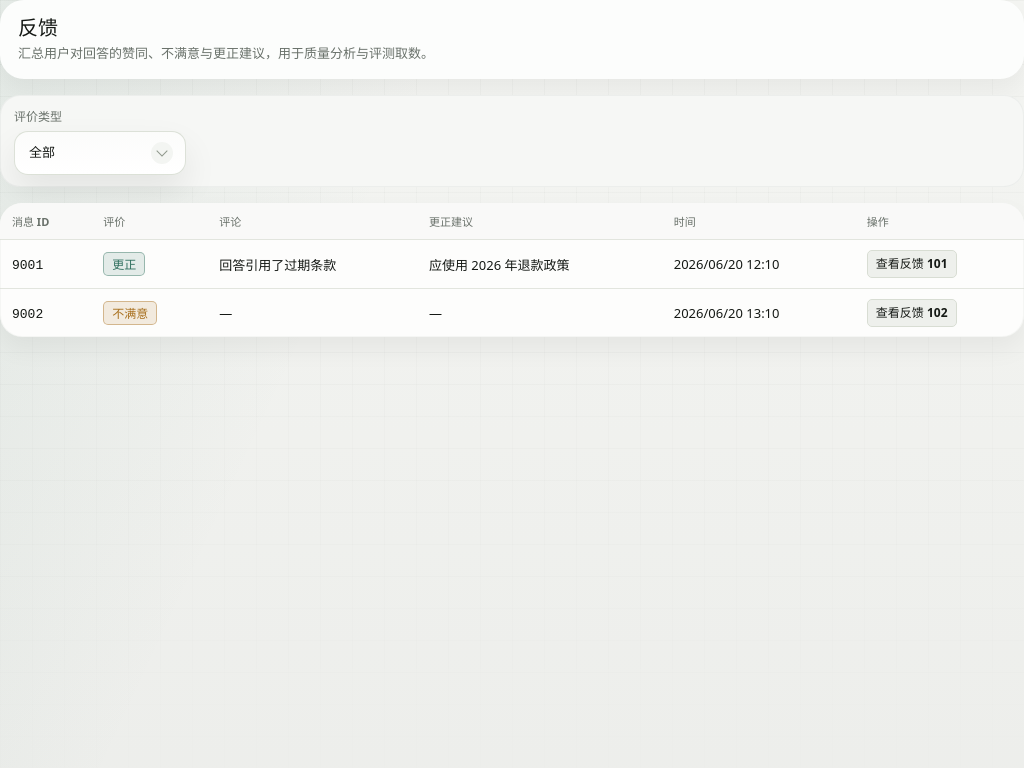
Test: FeedbackConsolePage › opens feedback details with conversation, message and trace entries
What coordinates should you click on to do the following:
click the button "查看反馈 101"
I would click on:
 (912, 264)
Its box is [867,250,956,278].
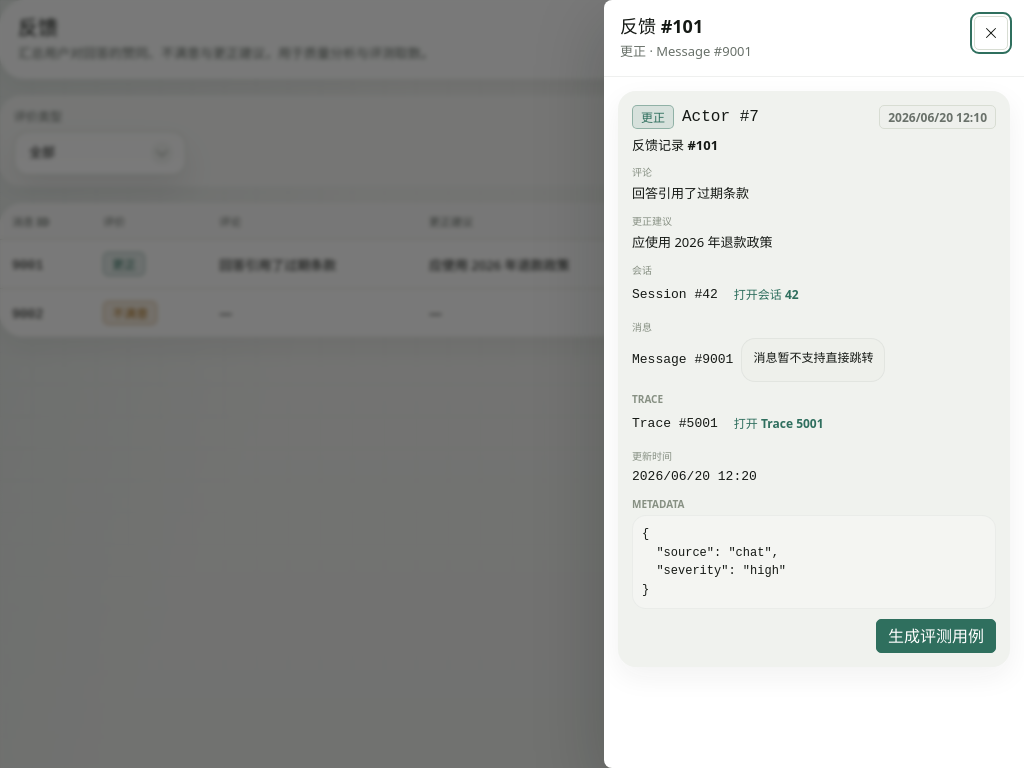
Result: the text "回答引用了过期条款" is shown at [632,184,749,202]
Result: the text "应使用 2026 年退款政策" is shown at [632,233,772,251]
Result: the text "Session #42" is shown at [632,285,718,305]
